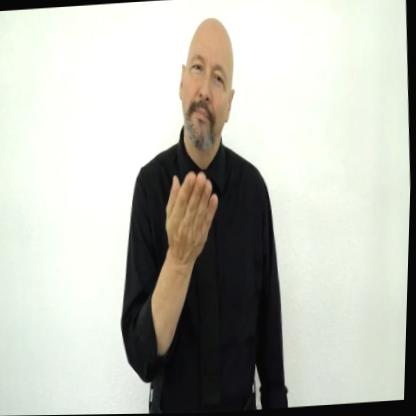ThankYou: (103, 10, 301, 415)
